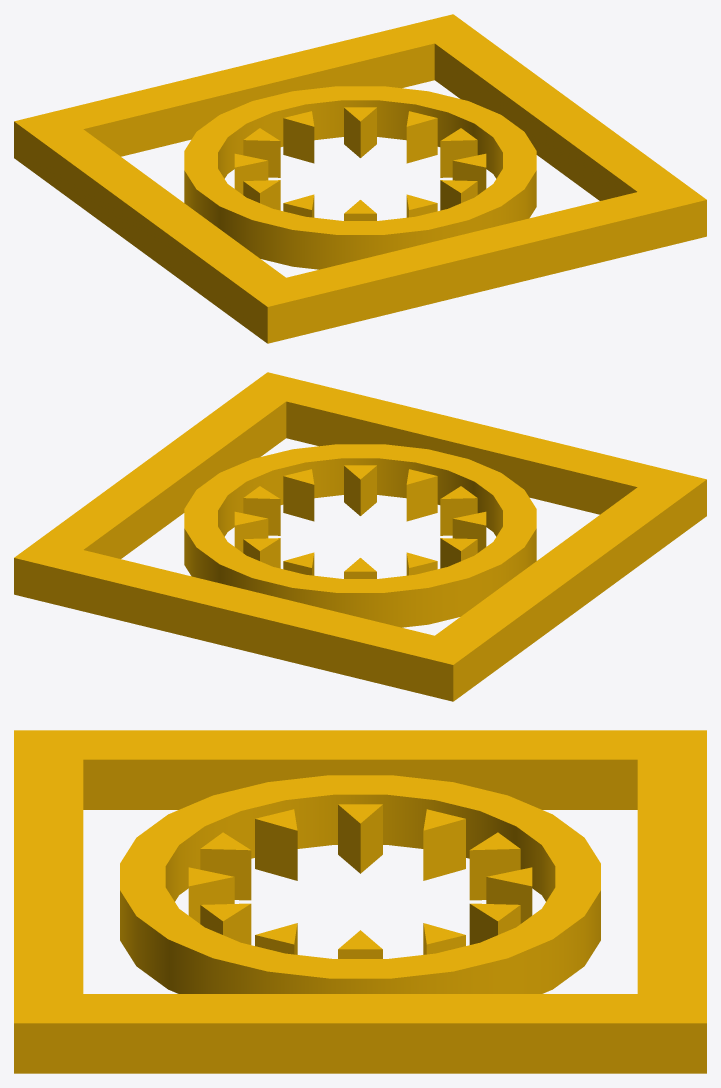
Rendered from pu_ballMinus.fbx.
3 views of the same model, one above another, from view 1: azimuth 30°, elevation 25°; view 2: azimuth 150°, elevation 25°; view 3: azimuth 270°, elevation 25° (orthographic). The views are drawn at different scales.
Parts seen in each view (by area): view 1: pu_ballMinus; view 2: pu_ballMinus; view 3: pu_ballMinus.
Part boxes in pixels (box(x1,y1,x2,y2)): pu_ballMinus: box(14, 14, 706, 343); pu_ballMinus: box(14, 372, 706, 701); pu_ballMinus: box(14, 730, 706, 1073).
Bounding box in the file's own units: 1 × 0.08 × 1.
